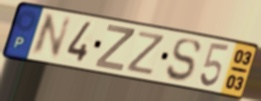4: (64, 21, 94, 65)
5: (198, 42, 231, 88)
N: (28, 12, 74, 60)
S: (165, 38, 203, 83)
Z: (93, 23, 137, 74), (124, 30, 167, 78)
